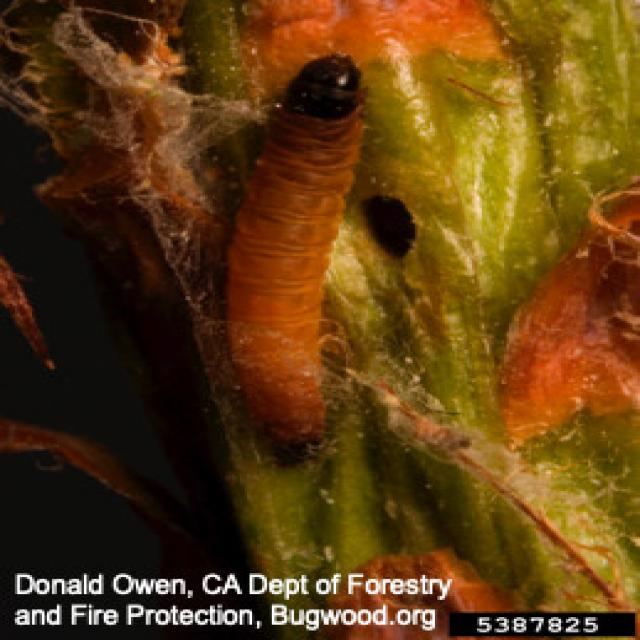cornborer-Larva-: (157, 38, 370, 484)
